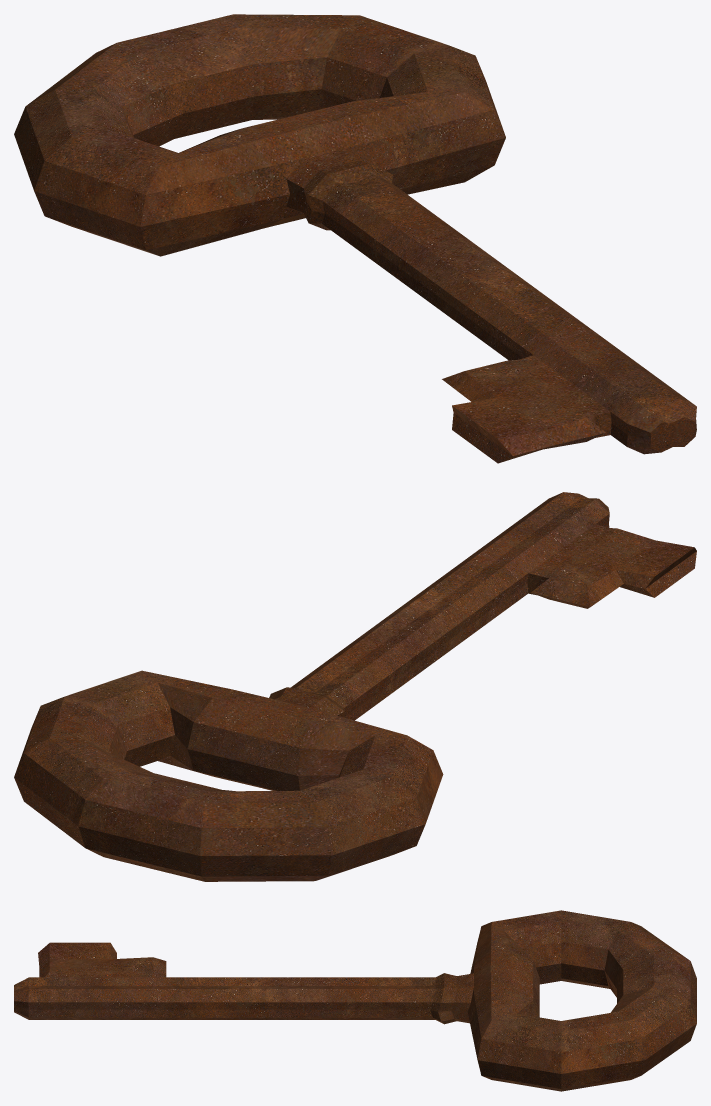
File: Key1.fbx
3 renders of one model, top to bottom at view 1: azimuth 30°, elevation 25°; view 2: azimuth 150°, elevation 25°; view 3: azimuth 270°, elevation 25°, orthographic. The views are drawn at different scales.
Parts seen in each view (by area): view 1: Key; view 2: Key; view 3: Key.
Boxes of the visible parts, x1,y1,x2,y2 form: Key: (14,14,696,463); Key: (14,492,696,881); Key: (14,910,696,1091).
Size of the model in its own units: 160 by 31.65 by 316.
